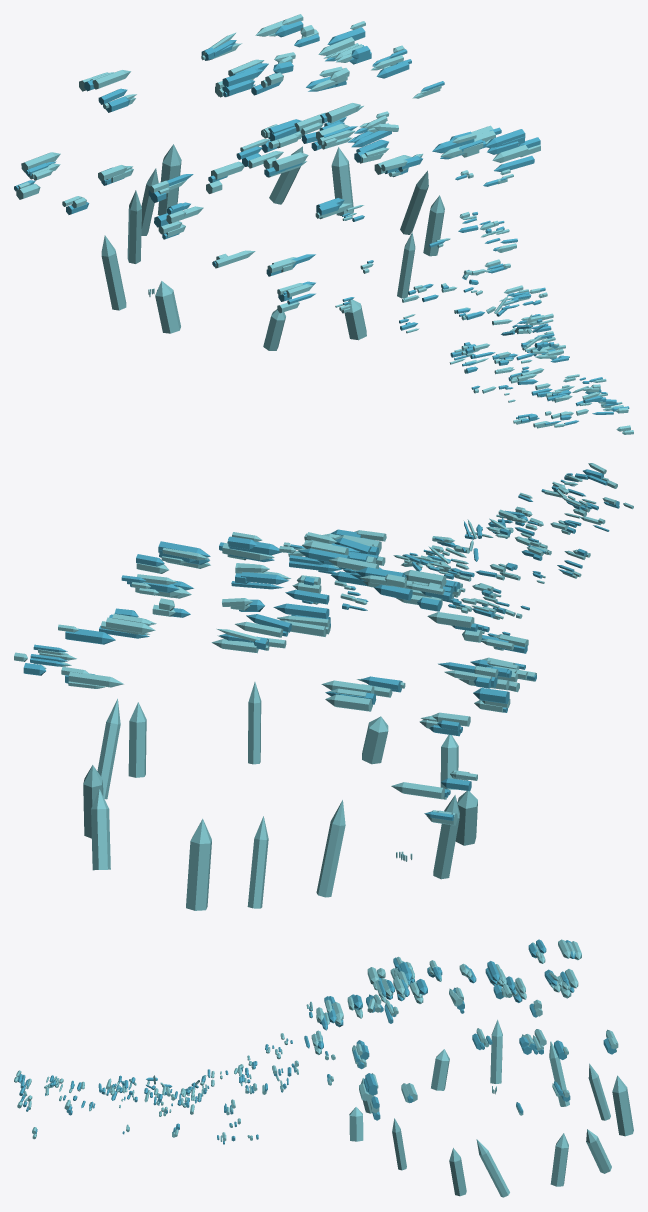
Rendered from cave_glasswyrm_cavern_glow.glb.
3 renders of one model, top to bottom at view 1: azimuth 30°, elevation 25°; view 2: azimuth 150°, elevation 25°; view 3: azimuth 270°, elevation 25°, orthographic. The views are drawn at different scales.
Parts seen in each view (by area): view 1: geometry_0; view 2: geometry_0; view 3: geometry_0.
Boxes of the visible parts, left/top/right/bottom form: geometry_0: left=14, top=14, right=633, bottom=434; geometry_0: left=14, top=463, right=633, bottom=910; geometry_0: left=14, top=939, right=633, bottom=1197.
Bounding box in the file's own units: 89.22 × 46.23 × 153.
